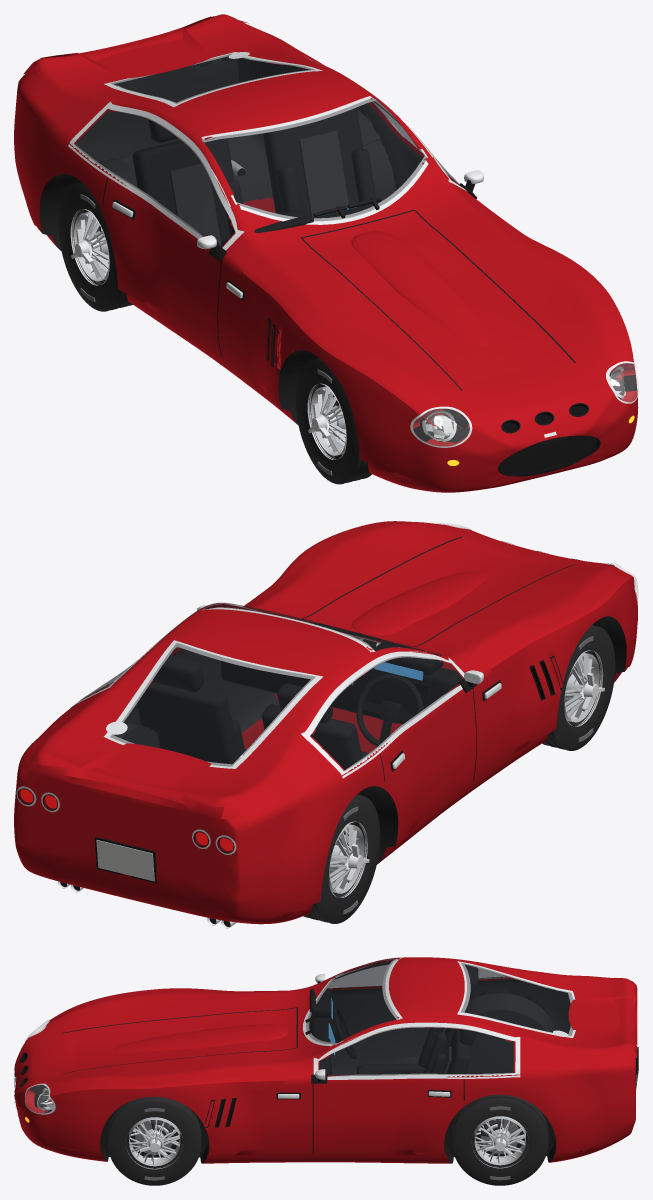
File: gto.glb
3 renders of one model, top to bottom at view 1: azimuth 30°, elevation 25°; view 2: azimuth 150°, elevation 25°; view 3: azimuth 270°, elevation 25°, orthographic. The views are drawn at different scales.
Parts seen in each view (by area): view 1: Body, Wheel_FR, Wheel_RR; view 2: Body, Wheel_RR, Wheel_FR; view 3: Body, Wheel_RL, Wheel_FL.
Boxes of the visible parts, x1,y1,x2,y2 form: Body: (14,14,638,492); Wheel_FR: (295,358,371,484); Wheel_RR: (58,182,132,311); Body: (14,521,638,928); Wheel_RR: (303,794,380,923); Wheel_FR: (542,625,615,750); Body: (14,957,638,1163); Wheel_RL: (452,1094,548,1185); Wheel_FL: (108,1096,201,1185).
Size of the model in its own units: 1.68 by 1.2 by 4.34.
